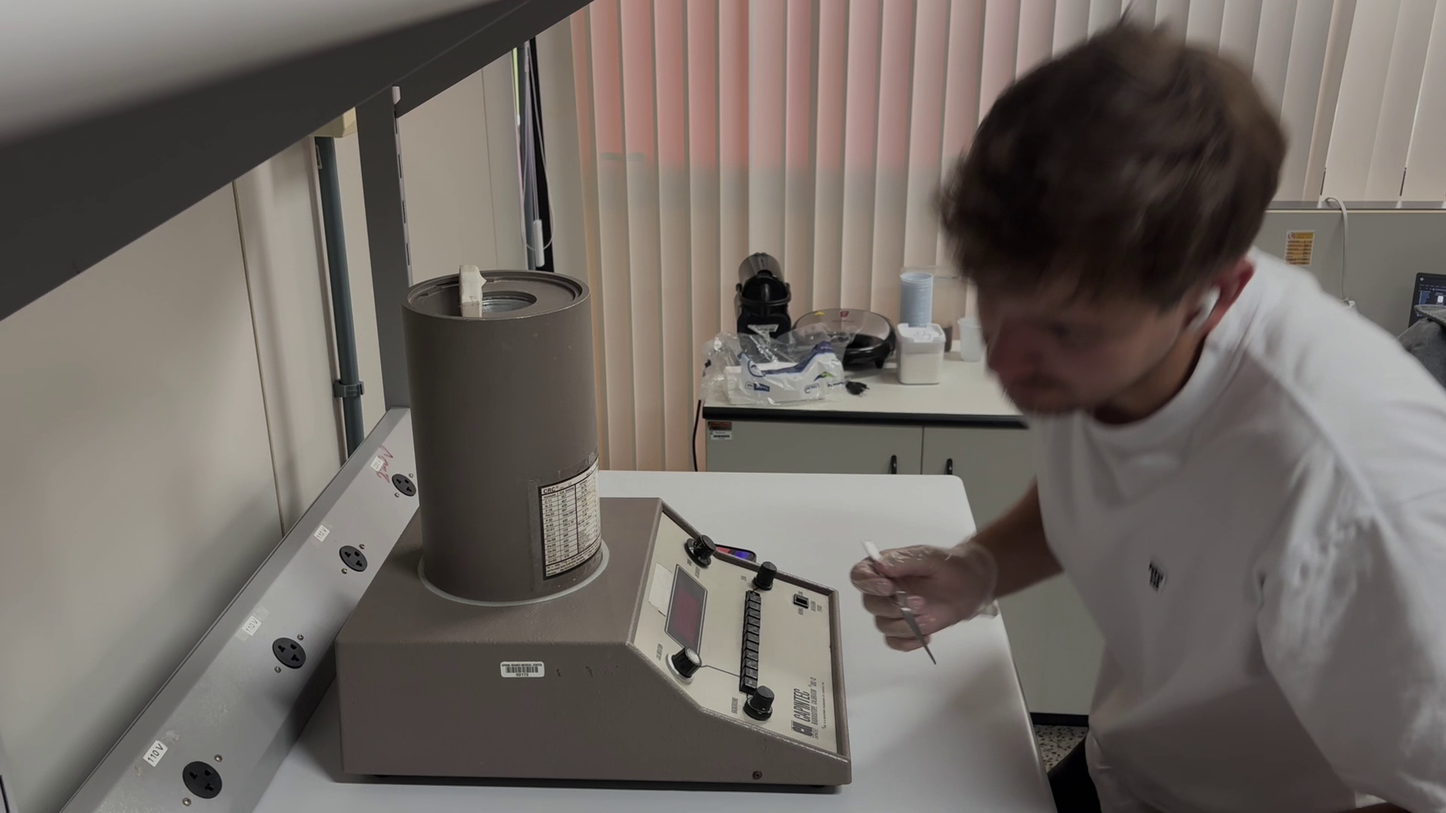Ativimetro: (398, 267, 609, 606)
Com_Luva: (845, 540, 1003, 650)
